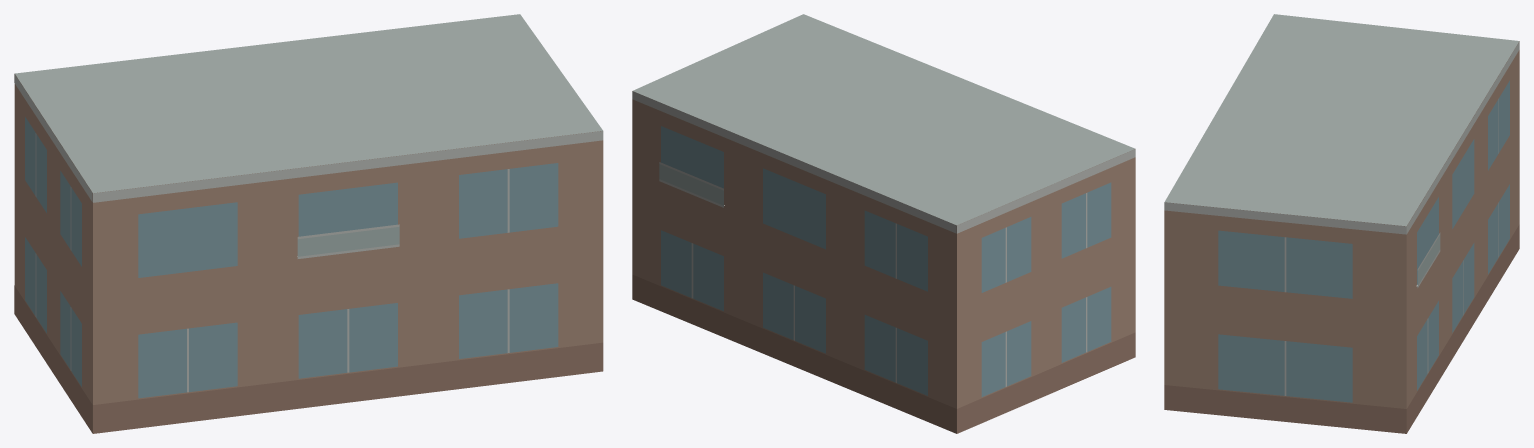
File: survey-upis-32501424.glb
3 renders of one model, left to right at view 1: azimuth 30°, elevation 25°; view 2: azimuth 150°, elevation 25°; view 3: azimuth 270°, elevation 25°, orthographic. The views are drawn at different scales.
Visible parts, largest first — view 1: survey-upis-32501424.tmp; view 2: survey-upis-32501424.tmp; view 3: survey-upis-32501424.tmp.
Part boxes in pixels (<box>): survey-upis-32501424.tmp: <box>14,14,603,433</box>; survey-upis-32501424.tmp: <box>632,14,1135,433</box>; survey-upis-32501424.tmp: <box>1164,14,1519,433</box>.
Bounding box in the file's own units: 13.38 × 6.1 × 9.47.
